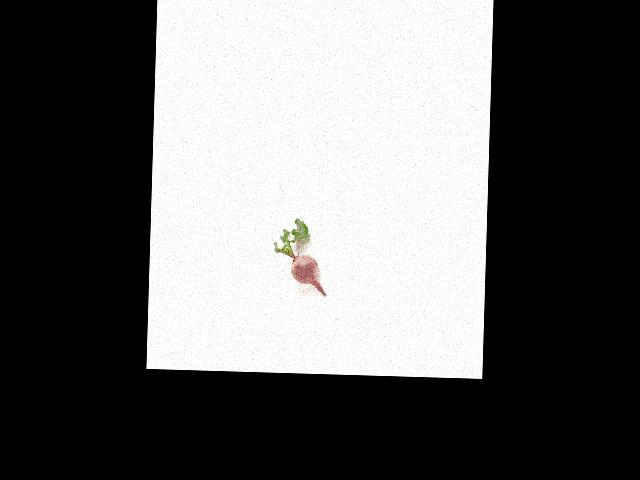beet: (272, 217, 328, 296)
